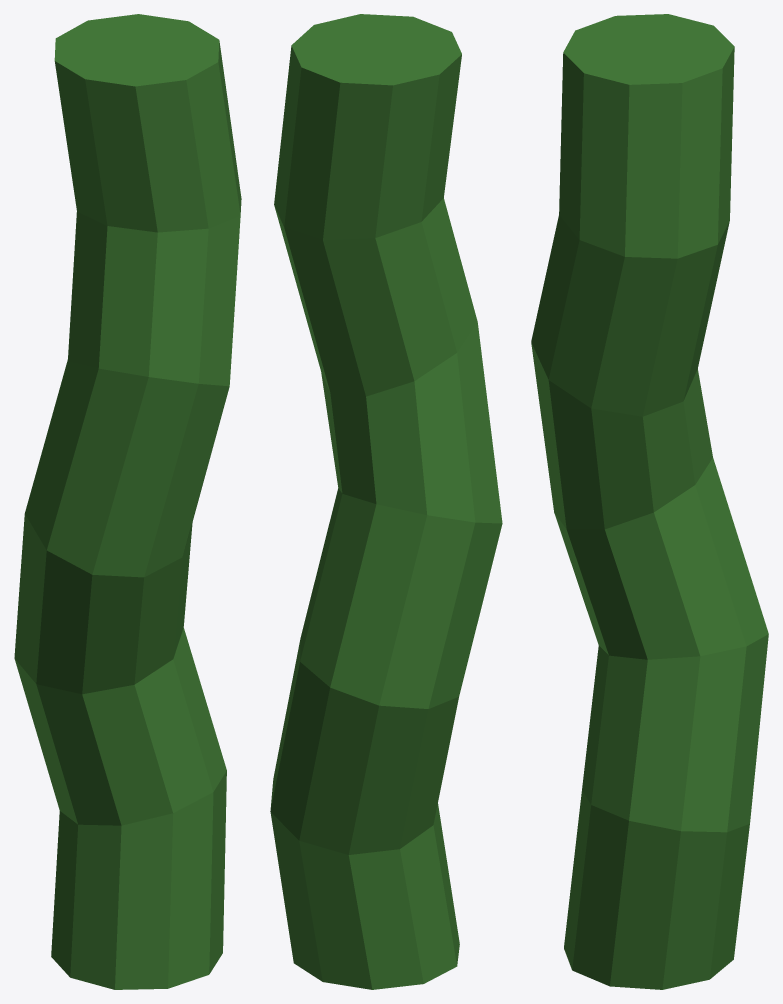
Rendered from MagicBean_Section.fbx.
3 renders of one model, left to right at view 1: azimuth 30°, elevation 25°; view 2: azimuth 150°, elevation 25°; view 3: azimuth 270°, elevation 25°, orthographic.
Visible parts, largest first — view 1: MagicBeanSection; view 2: MagicBeanSection; view 3: MagicBeanSection.
Boxes of the visible parts, x1,y1,x2,y2 form: MagicBeanSection: (14, 14, 241, 989); MagicBeanSection: (270, 14, 502, 989); MagicBeanSection: (531, 14, 768, 989).
Bounding box in the file's own units: 26.91 × 116 × 27.62.
